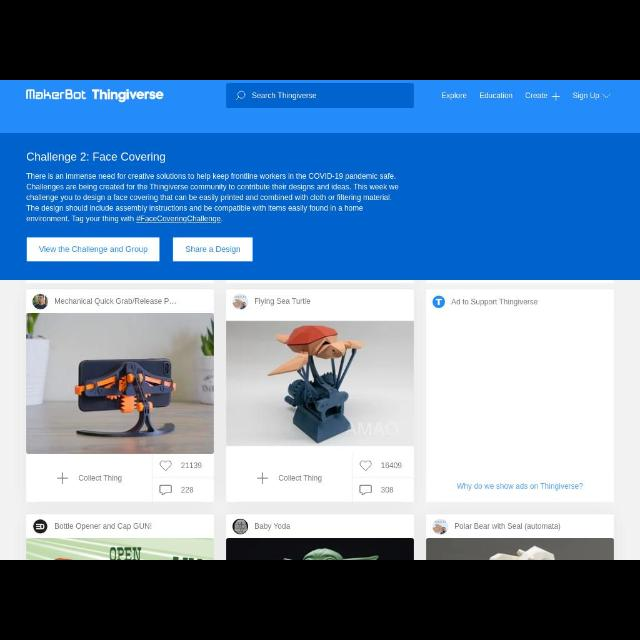icon: (232, 292, 248, 310), (32, 292, 48, 310), (31, 518, 49, 534), (231, 518, 247, 534), (432, 518, 448, 534), (358, 483, 374, 497), (57, 470, 69, 488), (159, 458, 173, 472), (158, 484, 174, 496), (233, 89, 247, 101), (432, 296, 446, 308), (360, 458, 372, 472), (257, 472, 269, 484), (552, 91, 562, 102), (603, 90, 611, 100)
image: (28, 314, 212, 454), (228, 321, 412, 444), (426, 539, 614, 559), (226, 539, 412, 559), (27, 539, 212, 559), (22, 84, 168, 106)
input: (226, 83, 414, 109)
link: (454, 481, 584, 492)
spinner: (568, 86, 616, 104)
text: (27, 170, 401, 224), (26, 150, 166, 164), (39, 243, 151, 257), (54, 295, 176, 307), (454, 521, 562, 533), (54, 520, 152, 532), (452, 297, 538, 309), (252, 90, 318, 102), (186, 242, 240, 254), (254, 296, 312, 306), (279, 472, 325, 484), (78, 473, 122, 482), (254, 521, 292, 531), (478, 90, 514, 100), (380, 458, 404, 472), (570, 90, 600, 100), (440, 91, 468, 101), (526, 91, 548, 101), (182, 462, 202, 472), (180, 484, 198, 494), (382, 486, 394, 494)
textbutton: (26, 236, 160, 260), (173, 236, 254, 262)
toolbar: (1, 82, 639, 134)
